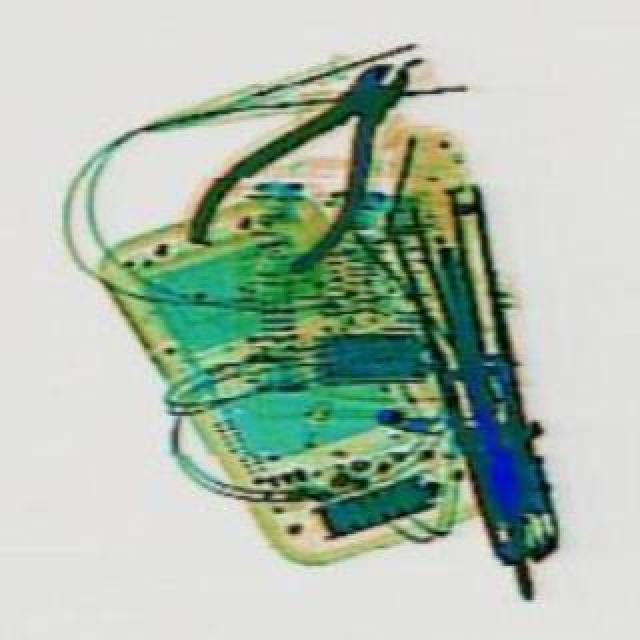wrench: (172, 20, 444, 298)
